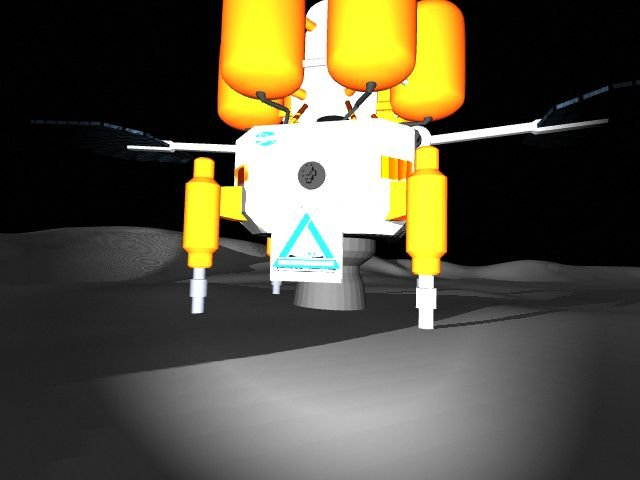basemarker: (271, 211, 341, 274)
